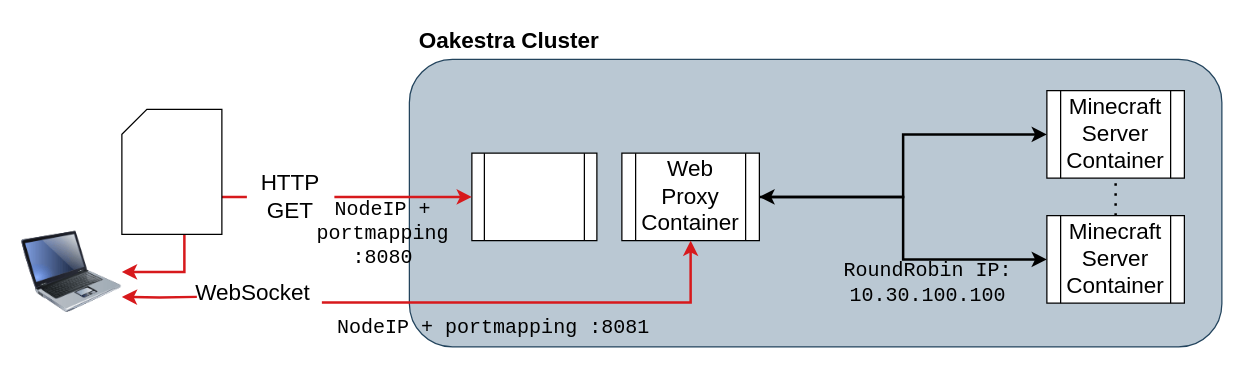
Some shapes in this 1244 by 369 pixel diagram are drawn without their labels. The centre of each missing label's shape, as x and y in pixels:
Minecraft web client: the point at 171,171
Web Server Container: the point at 534,196
